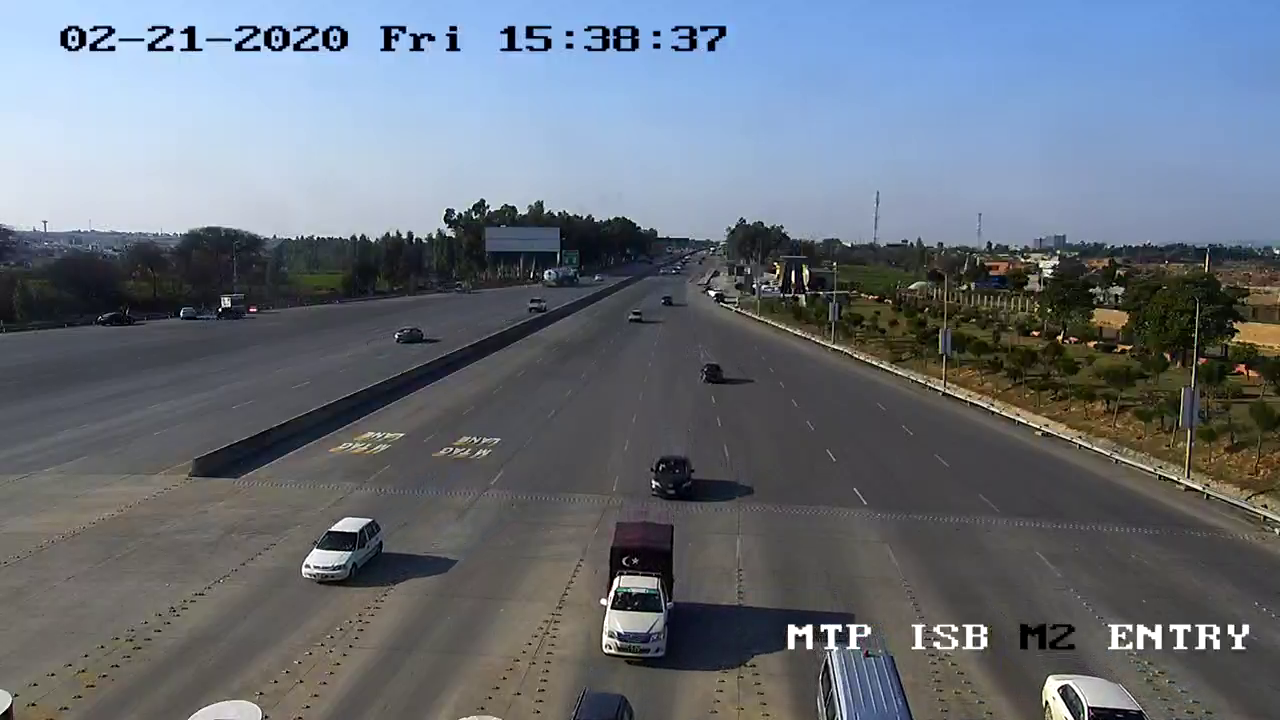f1: (295, 504, 388, 595), (631, 446, 708, 504)
f2: (591, 511, 682, 672)
